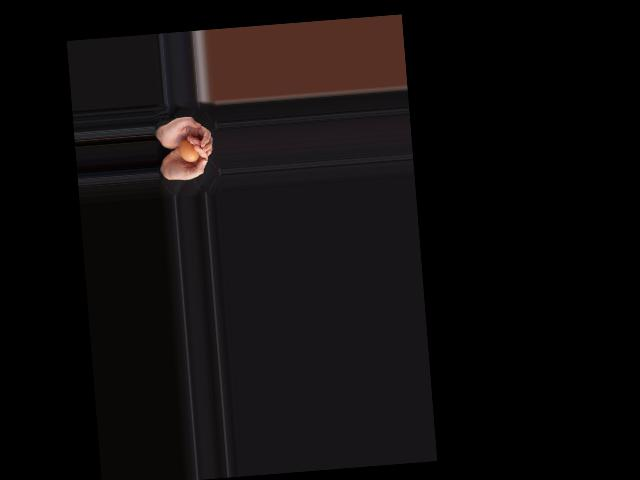egg: (177, 137, 199, 162)
